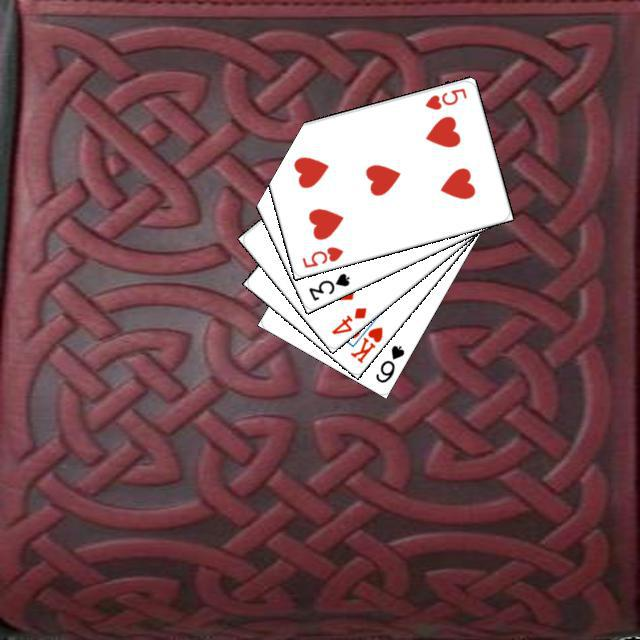3s: (304, 268, 352, 302)
4d: (327, 302, 369, 336)
5h: (420, 83, 468, 112), (297, 242, 345, 270)
6s: (370, 340, 406, 385)
Kh: (345, 312, 385, 365)
